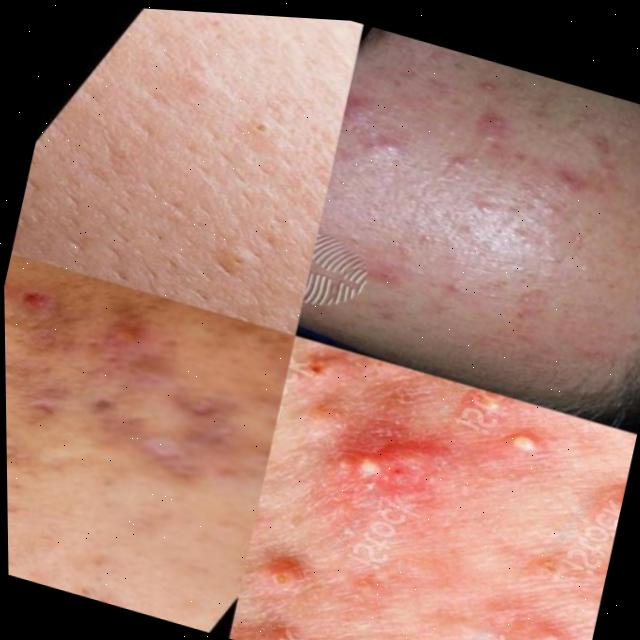Acne: (4, 259, 266, 583), (393, 53, 640, 390), (267, 403, 599, 640), (104, 11, 308, 239)
